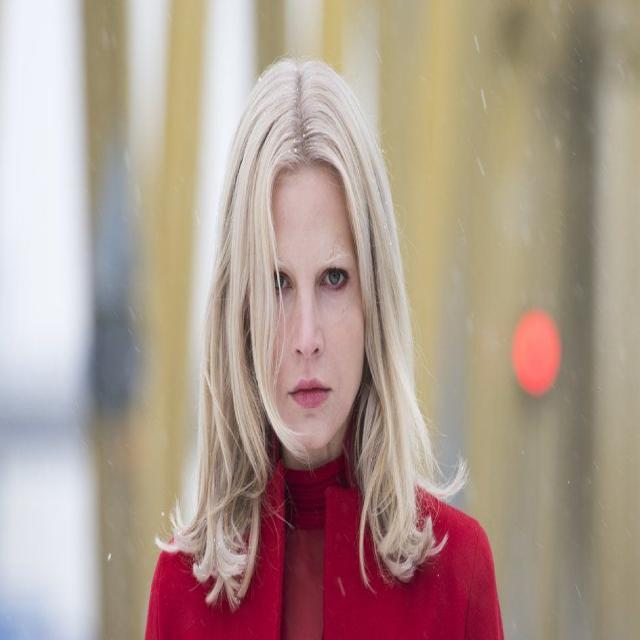mobile_phonerotation: (142, 55, 505, 636)
